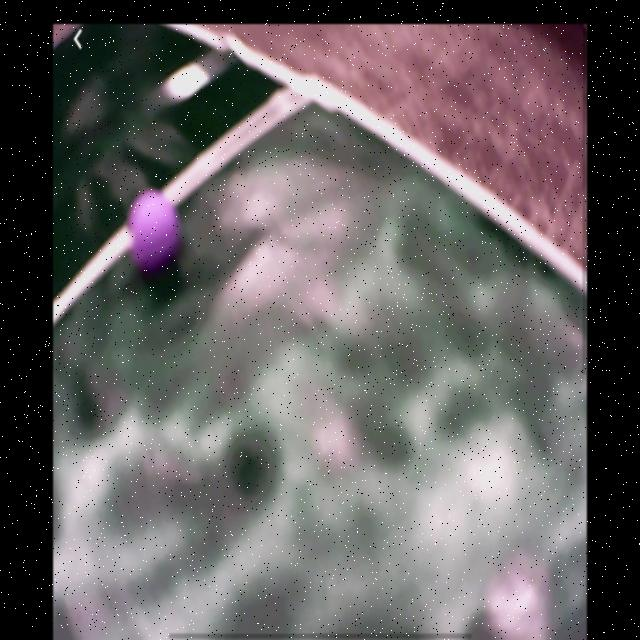ball: (127, 188, 182, 273)
